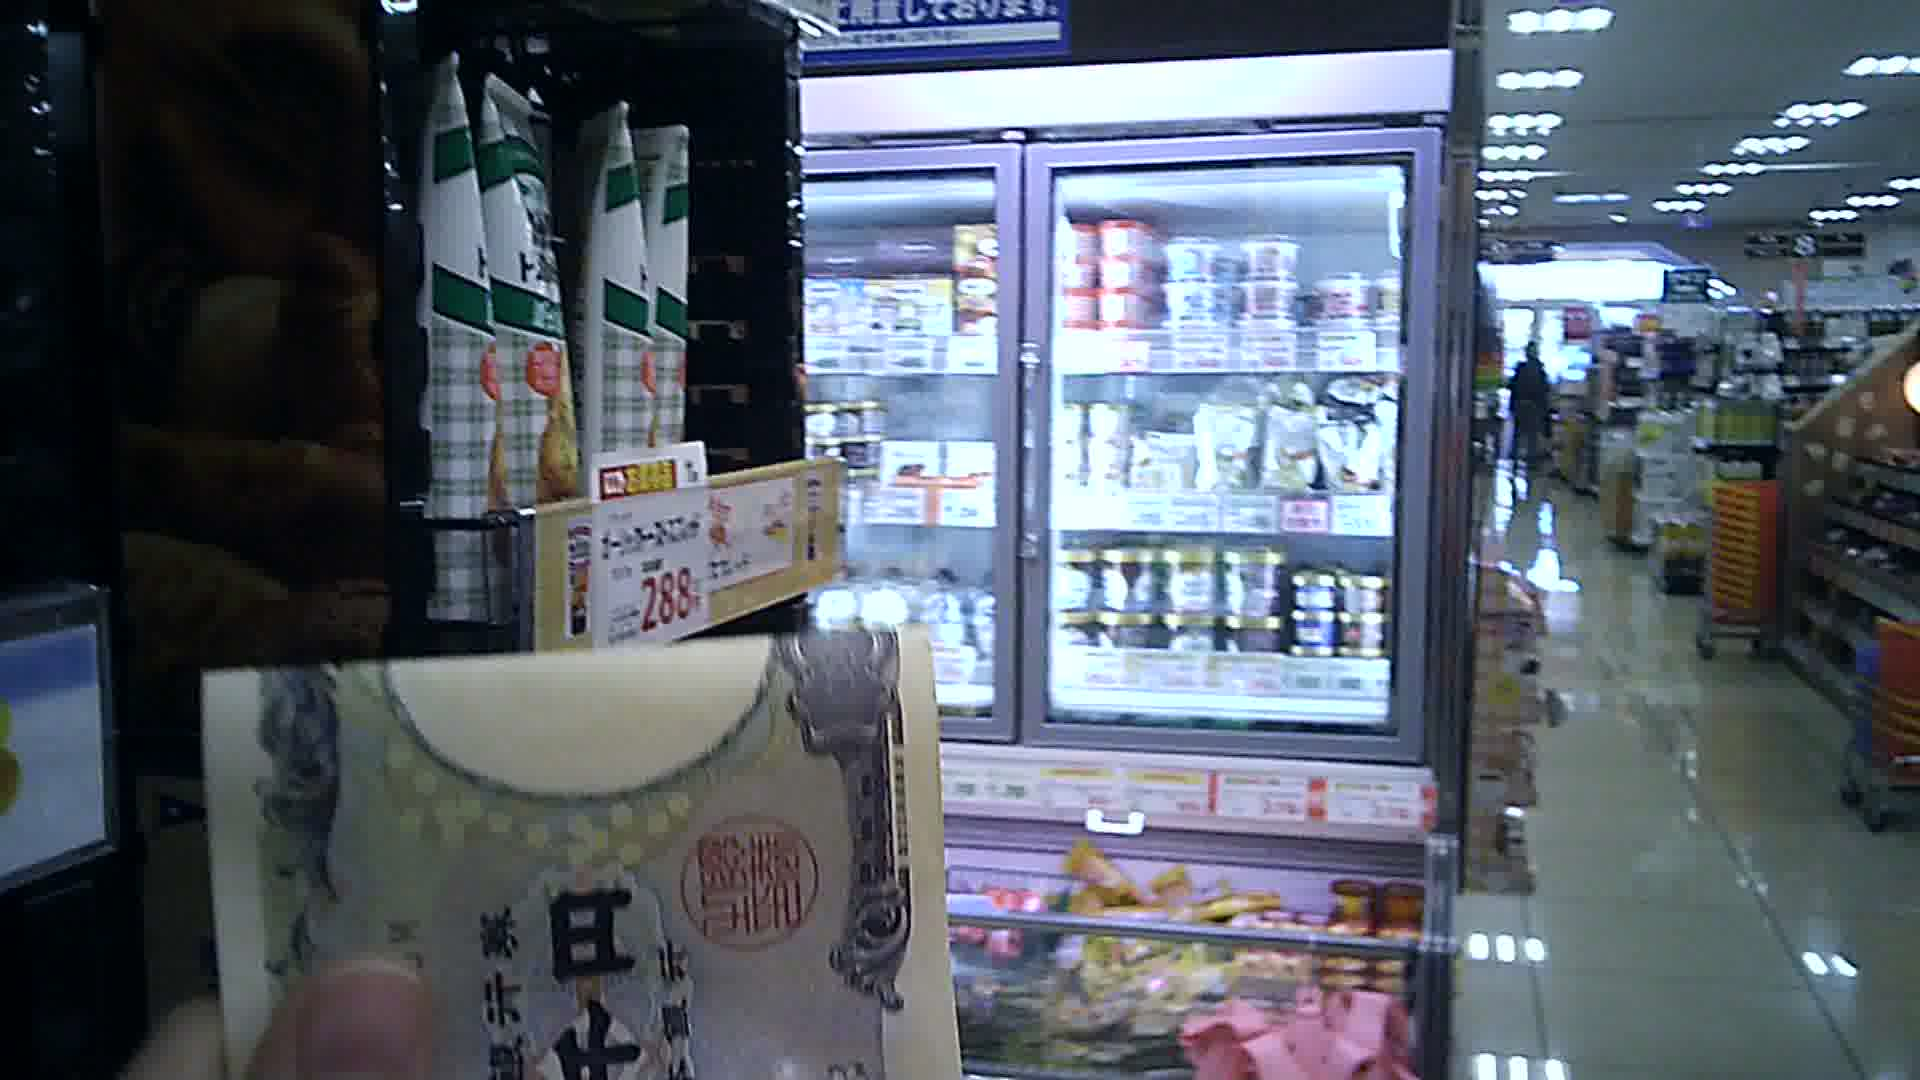5,000 Yen: (193, 626, 982, 1069)
